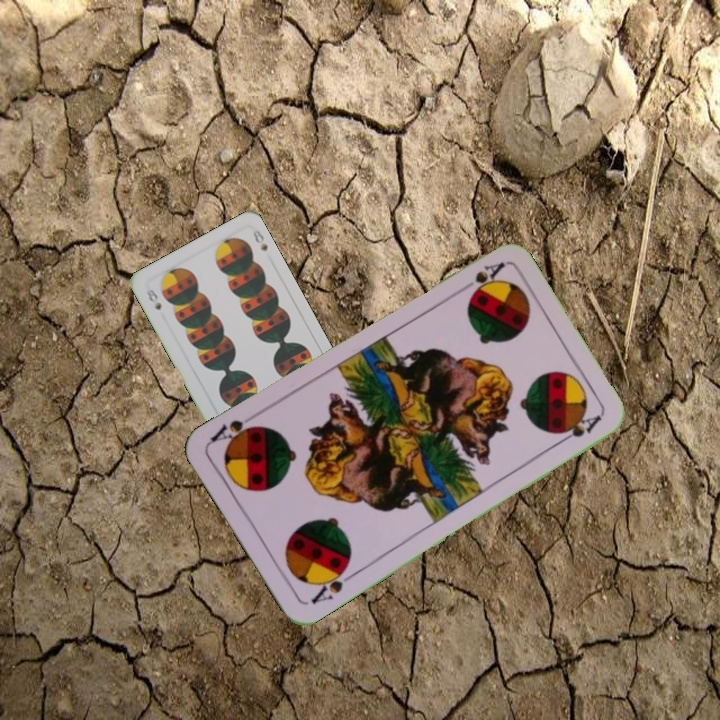S8: (142, 285, 164, 313)
SA: (307, 561, 358, 607), (453, 258, 507, 296)
